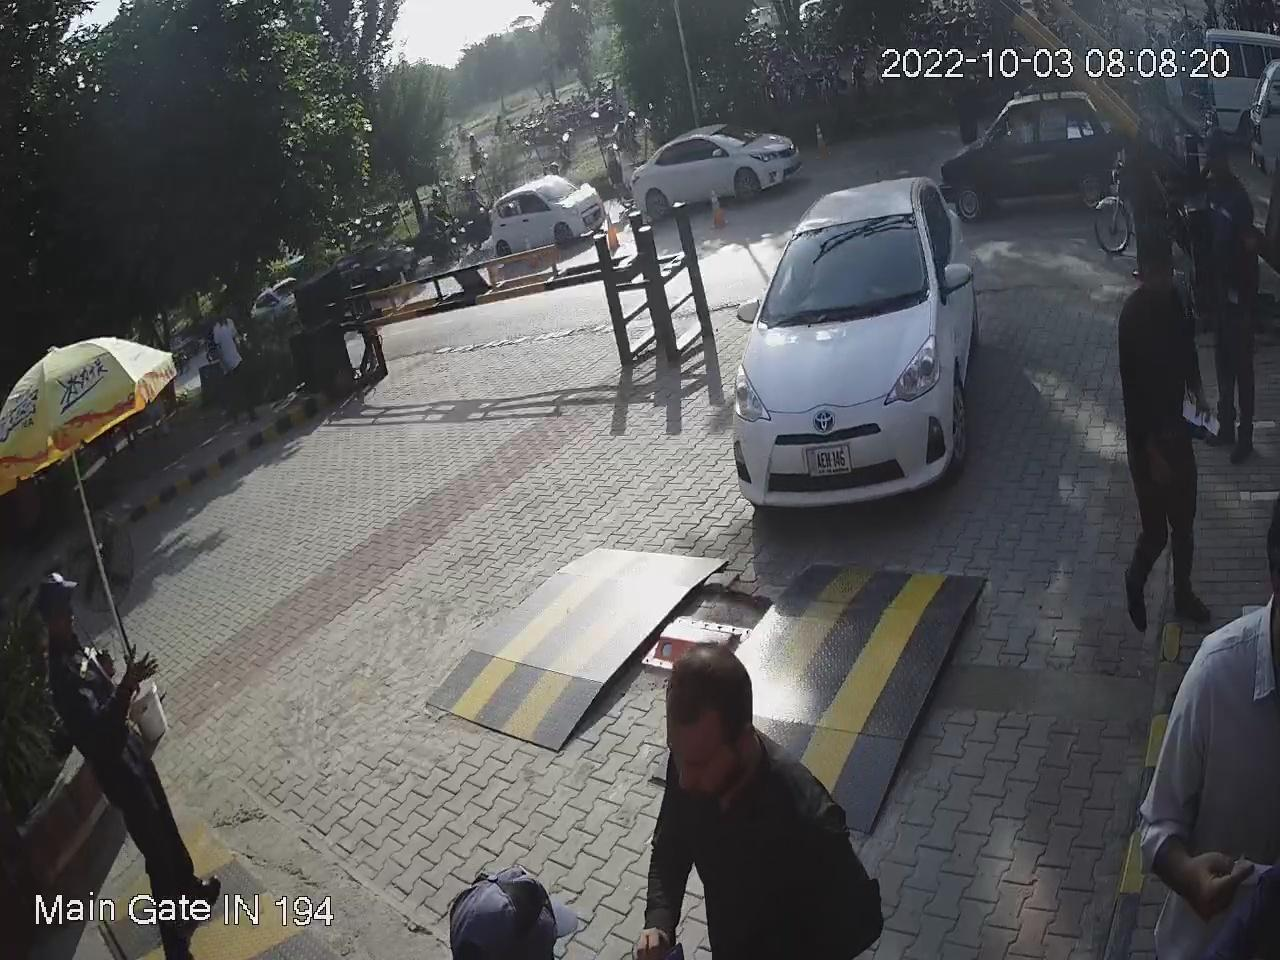windshield: (760, 200, 928, 325)
